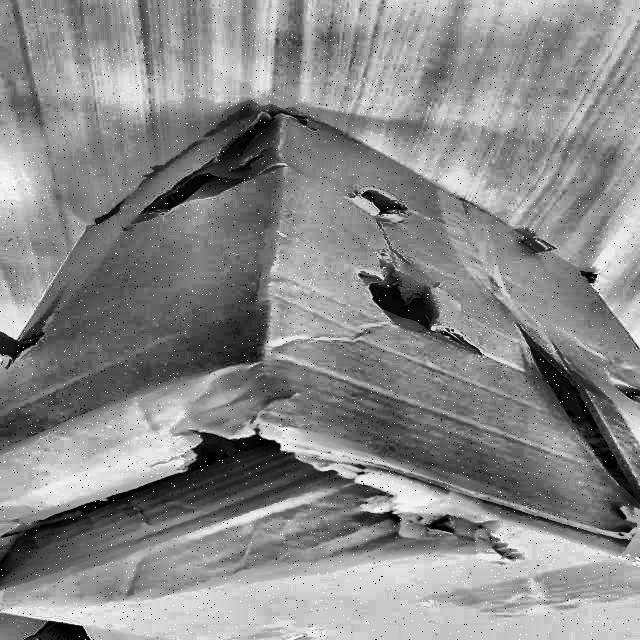box: (0, 79, 639, 640)
hole: (0, 414, 516, 612), (107, 109, 312, 225), (327, 271, 500, 361), (342, 185, 418, 225), (0, 325, 48, 373)
